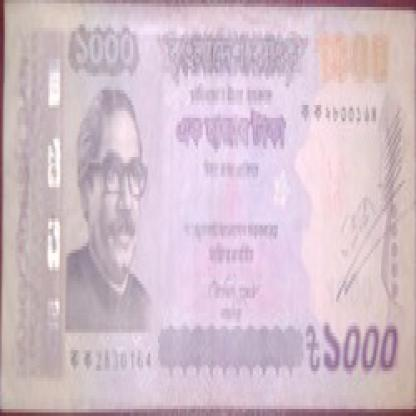One Thousand taka: (304, 315, 402, 382), (70, 24, 140, 76)
